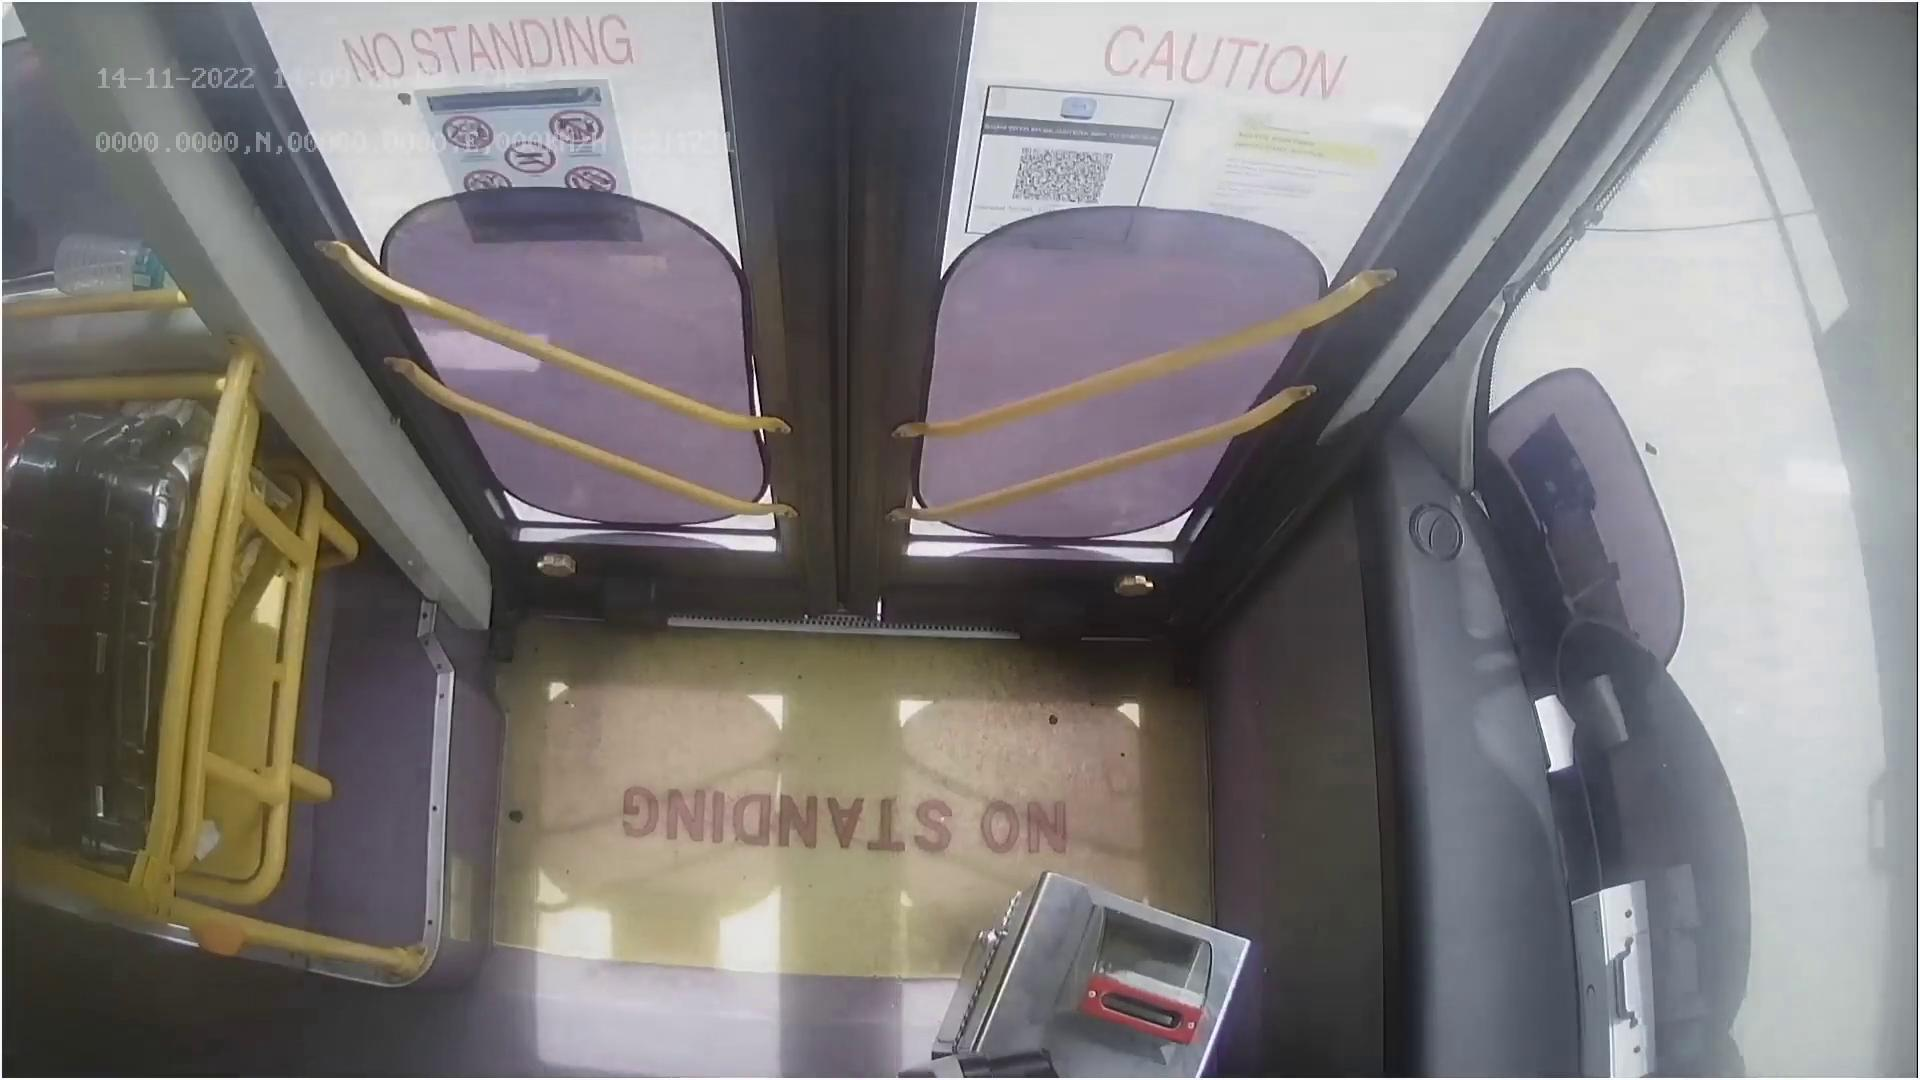close: (284, 0, 1435, 165)
